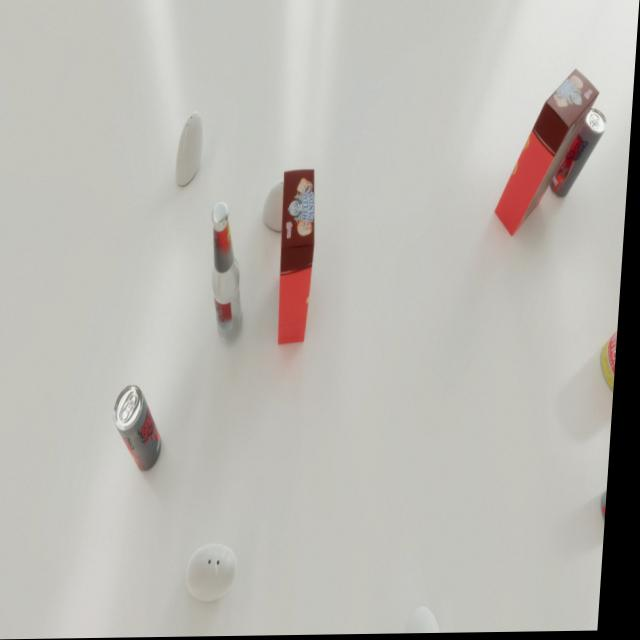Bottle: (208, 203, 254, 344)
HelloPanda: (496, 70, 602, 238), (278, 170, 322, 346)
Rita_zero_sugar: (551, 110, 610, 200), (116, 384, 171, 472)
Salt: (193, 544, 247, 603), (177, 112, 207, 186), (264, 181, 302, 233)
